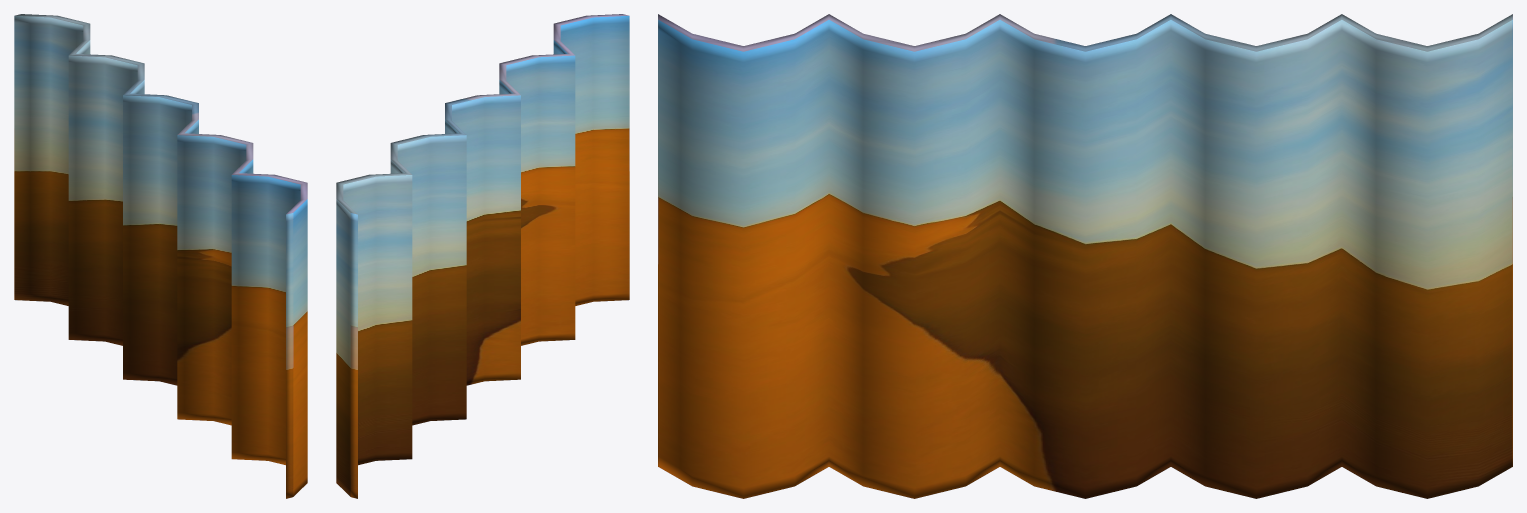
File: cortina.fbx
The picture shows the model from 3 angles, left to right: view 1: azimuth 30°, elevation 25°; view 2: azimuth 150°, elevation 25°; view 3: azimuth 270°, elevation 25°; orthographic projection. The views are drawn at different scales.
Visible parts, largest first — view 1: Cortinas; view 2: Cortinas; view 3: Cortinas.
Boxes of the visible parts, x1=… form: Cortinas: x1=14, y1=14, x2=307, y2=498; Cortinas: x1=336, y1=14, x2=629, y2=498; Cortinas: x1=658, y1=14, x2=1512, y2=498.
Bounding box in the file's own units: 10.21 × 56.52 × 97.88.
